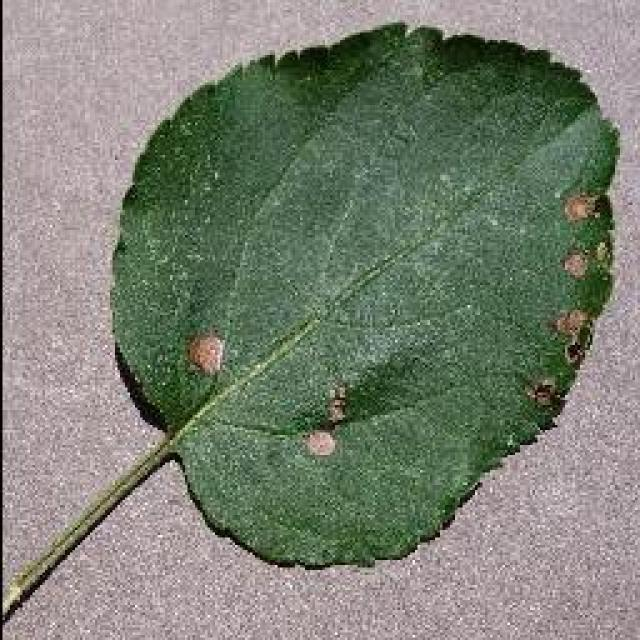Black_rot: (108, 18, 620, 570)
